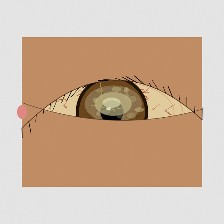corneal_ulcer: (83, 80, 143, 128)
